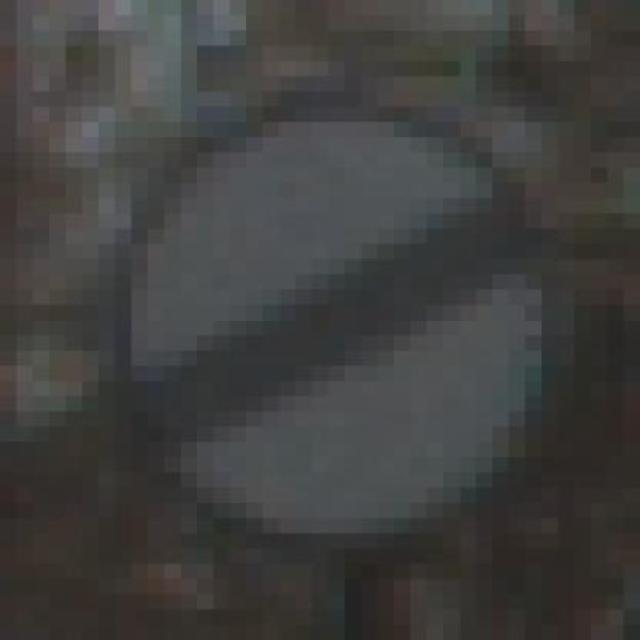End of all speed and passing limits: (98, 76, 574, 549)
